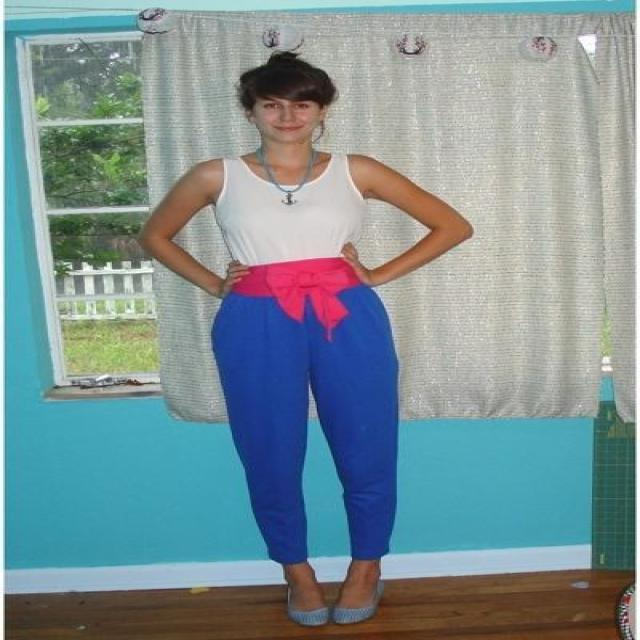pants: (211, 284, 397, 565)
shirt: (193, 157, 364, 264)
shoe: (288, 594, 373, 624)
